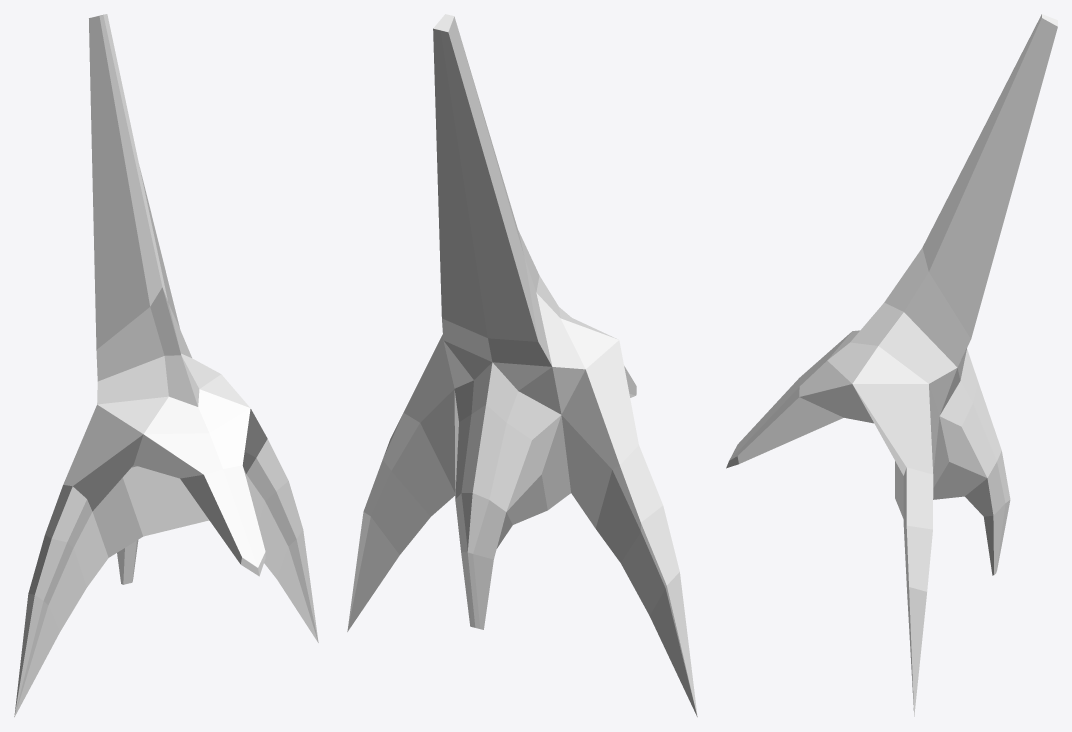
File: head_34.fbx
3 views of the same model, side by side, from view 1: azimuth 30°, elevation 25°; view 2: azimuth 150°, elevation 25°; view 3: azimuth 270°, elevation 25° (orthographic). The views are drawn at different scales.
Visible parts, largest first — view 1: Cube.162; view 2: Cube.162; view 3: Cube.162.
Boxes of the visible parts, x1,y1,x2,y2 form: Cube.162: [14, 14, 318, 717]; Cube.162: [347, 14, 697, 717]; Cube.162: [726, 14, 1057, 716].
Size of the model in its own units: 80.98 by 158 by 75.61.
